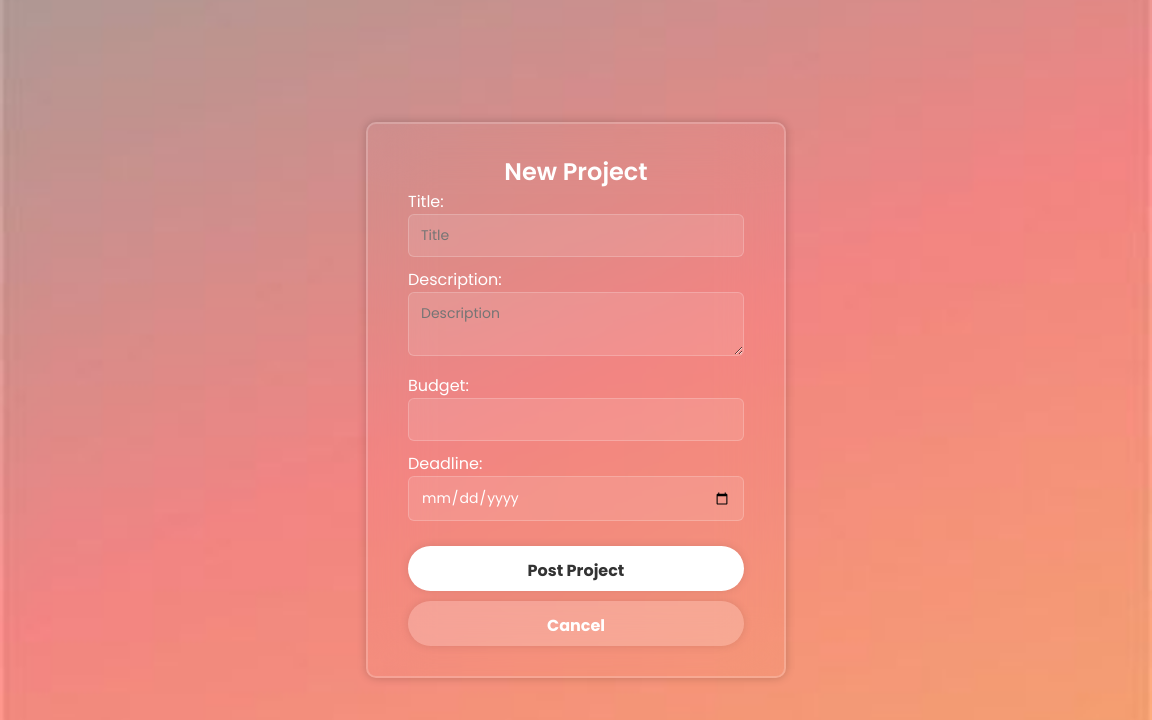
Test: ProjectForm › should handle form submission error
# Fill out the form
Step 1. Type "Test Project" into the field labelled "Title:" → x=576, y=236, box [408,214,744,257]
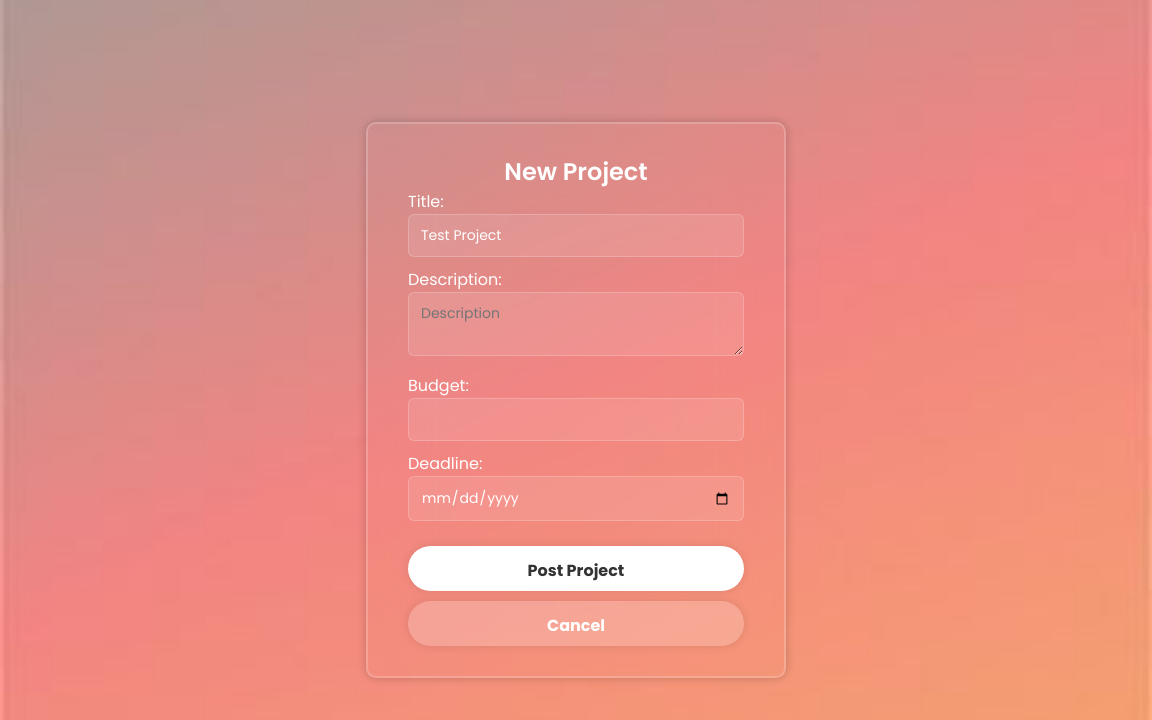
Step 2. Type "Test Description" into the text box labelled "Description:" → x=576, y=324, box [408,292,744,356]
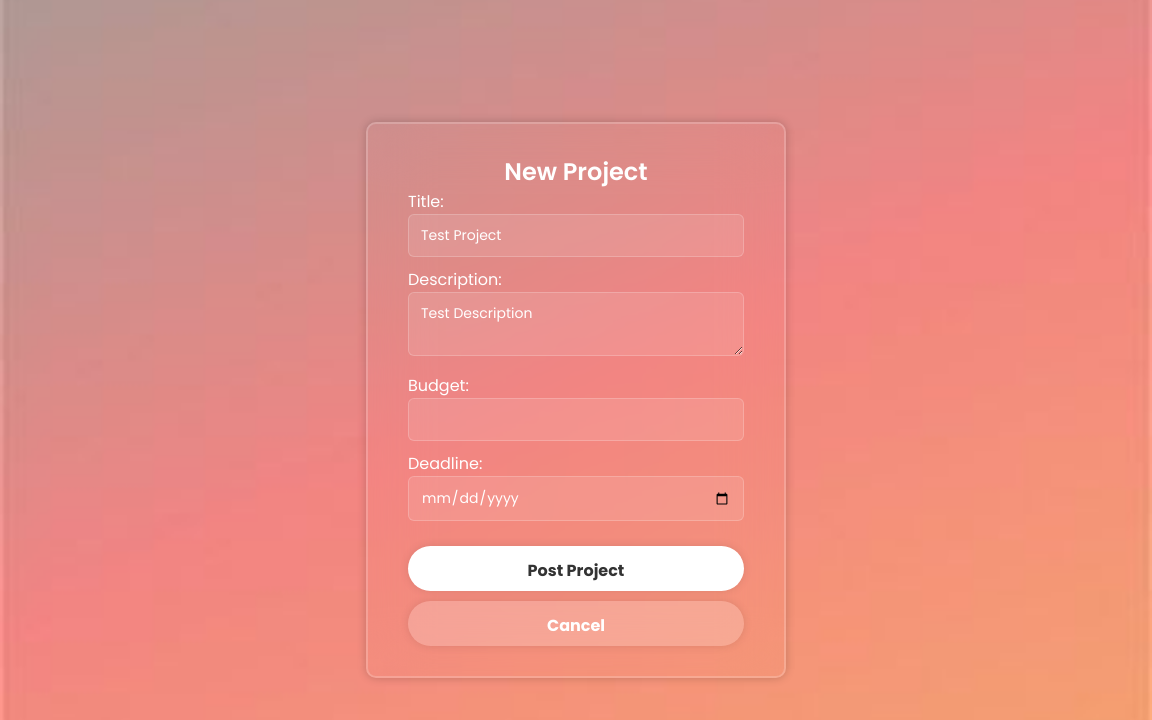
Step 3. Type "1000" into the number field labelled "Budget:" → x=576, y=420, box [408,398,744,441]
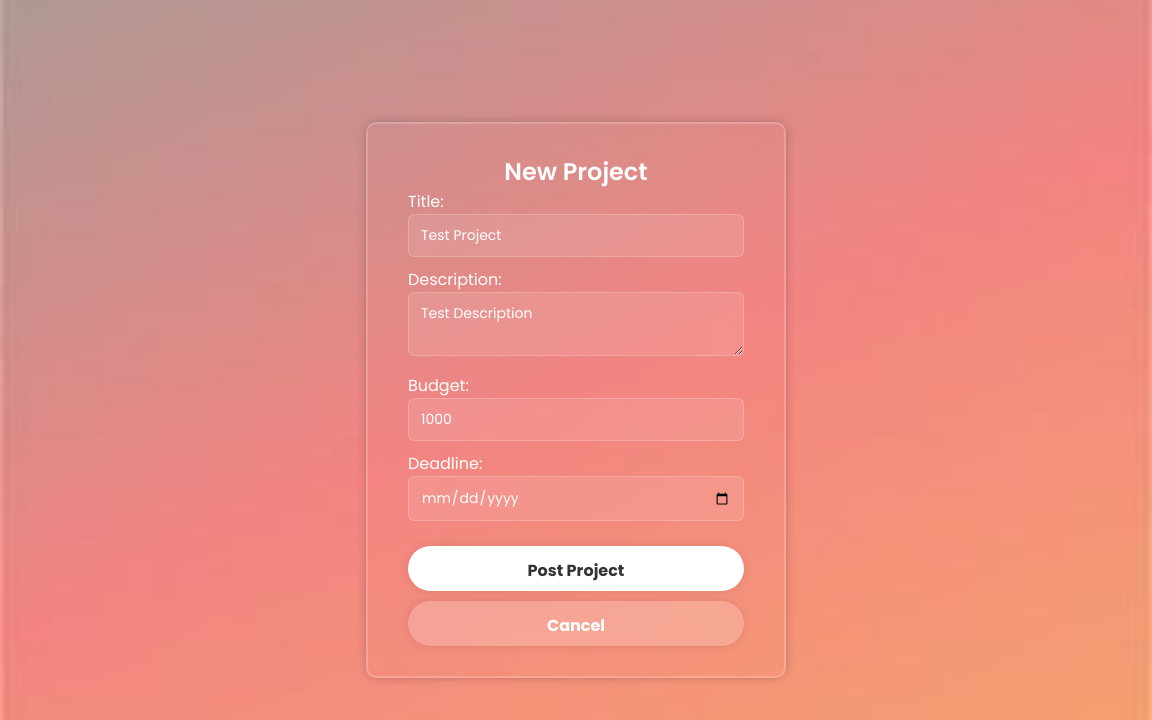
Step 4. Type "2024-12-31" into the date field labelled "Deadline:" → x=576, y=498, box [408,476,744,521]
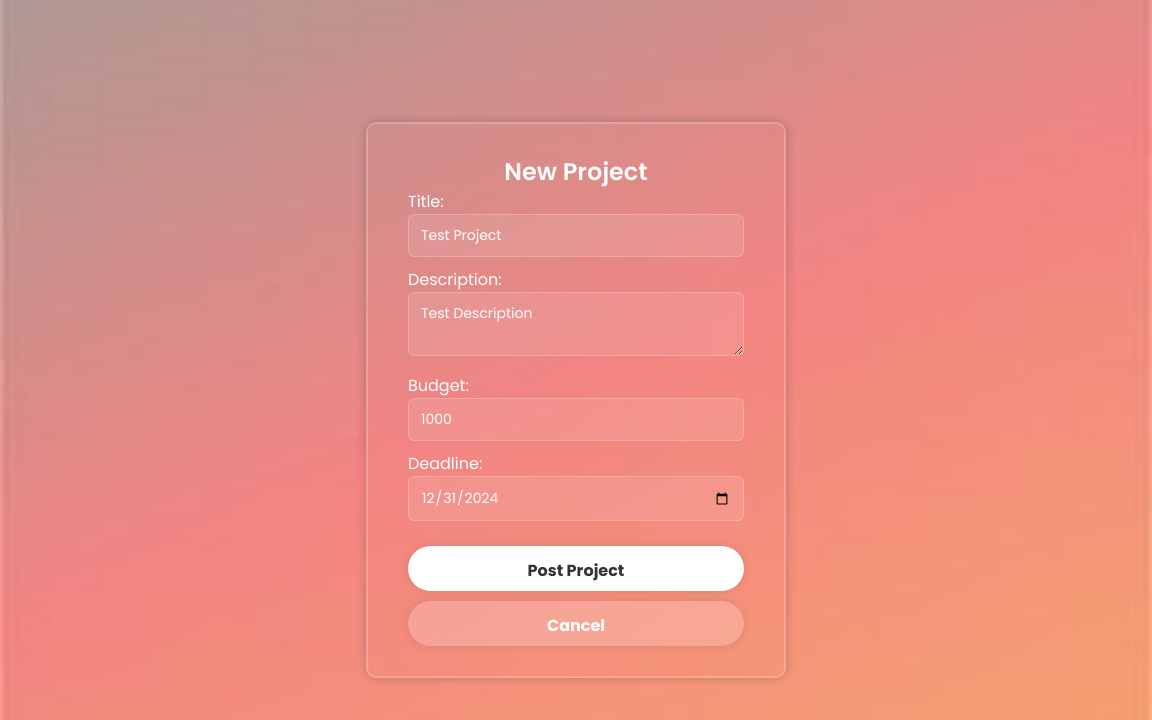
# Submit the form
Step 5. Click the button "Post Project" → x=576, y=568, box [408,546,744,591]
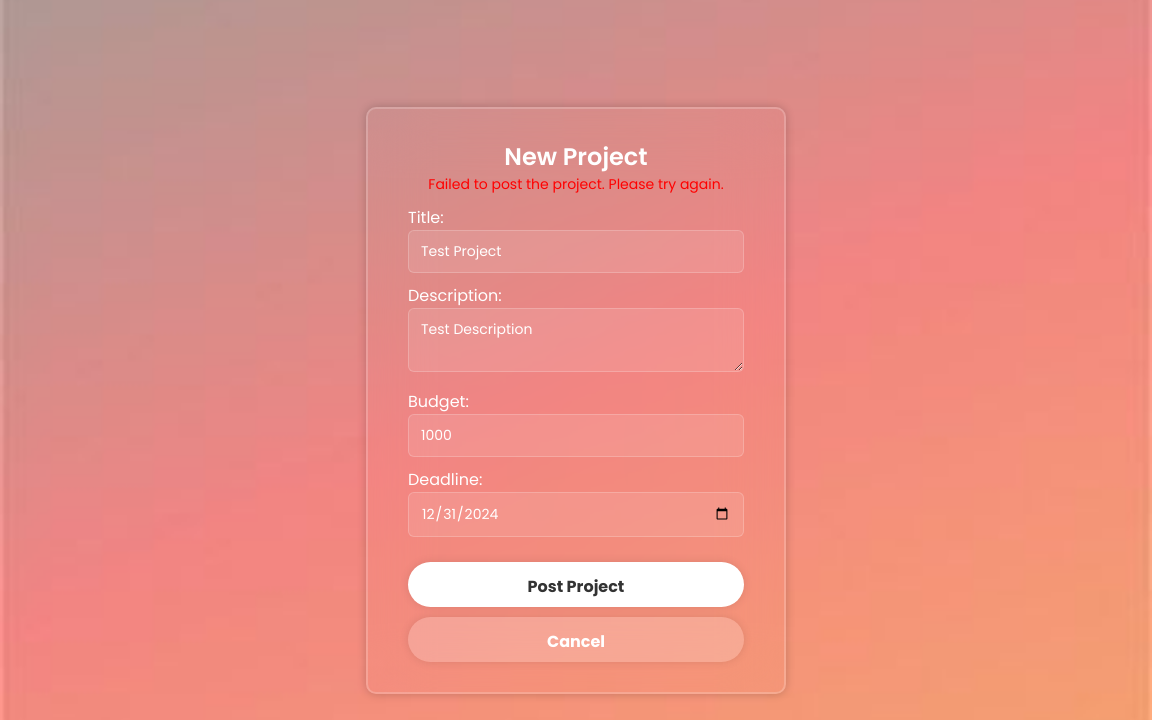
Expected: the text "Failed to post the project. Please try again." is shown, [408,174,744,194]
